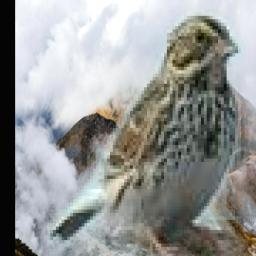Sparrow: (48, 9, 247, 256)
